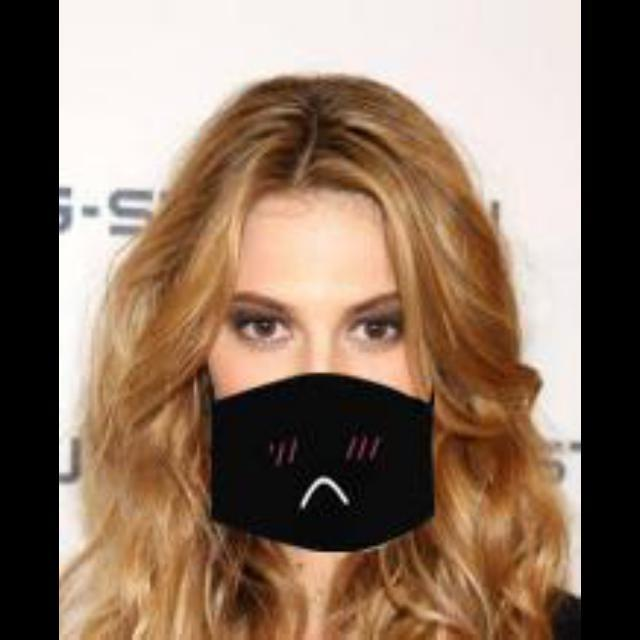suspicion: (202, 120, 480, 548)
